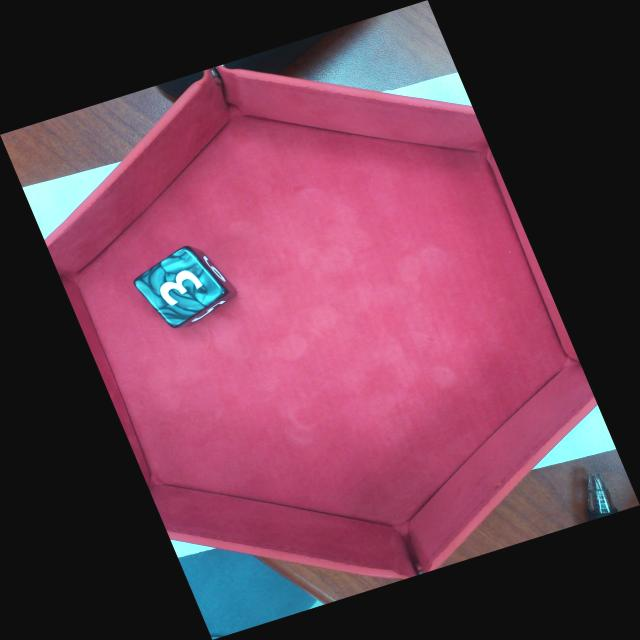dice: (130, 244, 230, 331)
